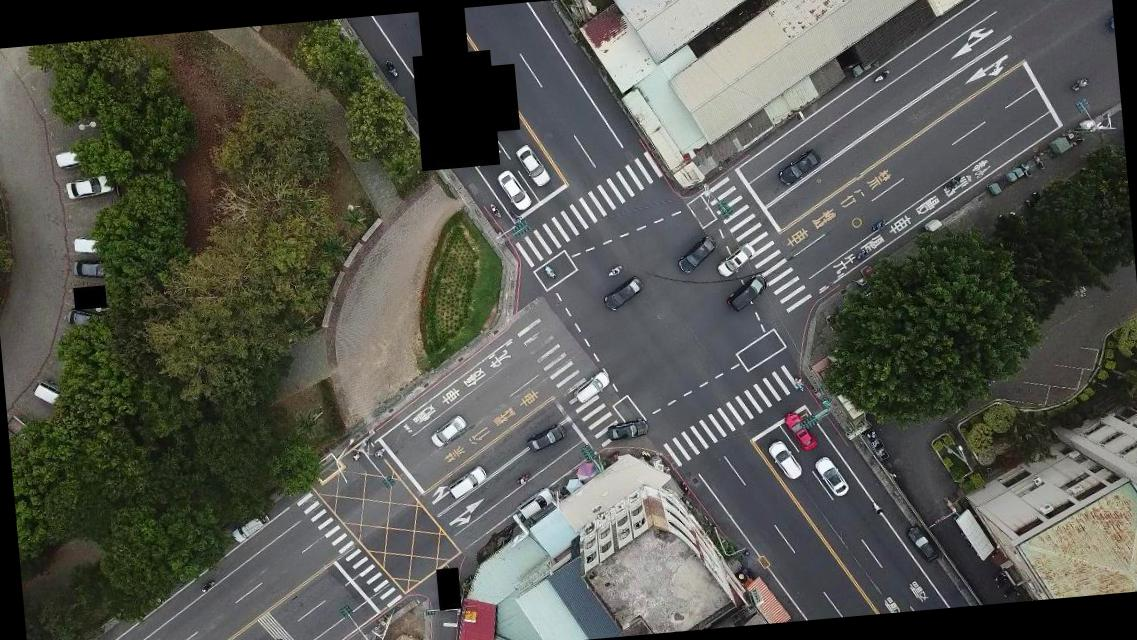vehicle: (724, 274, 770, 314), (674, 235, 719, 274), (514, 143, 552, 189), (776, 148, 822, 186), (766, 438, 802, 482), (814, 454, 850, 498), (230, 510, 272, 547), (782, 409, 816, 454), (602, 276, 646, 310), (497, 169, 531, 212), (714, 244, 757, 278), (446, 466, 488, 498), (64, 173, 113, 200), (429, 414, 467, 448), (572, 371, 611, 404), (906, 526, 938, 566), (516, 487, 555, 519), (526, 425, 568, 454), (605, 418, 650, 444), (70, 258, 112, 282), (32, 377, 64, 407), (72, 235, 100, 256), (54, 149, 82, 168), (66, 310, 94, 328)
